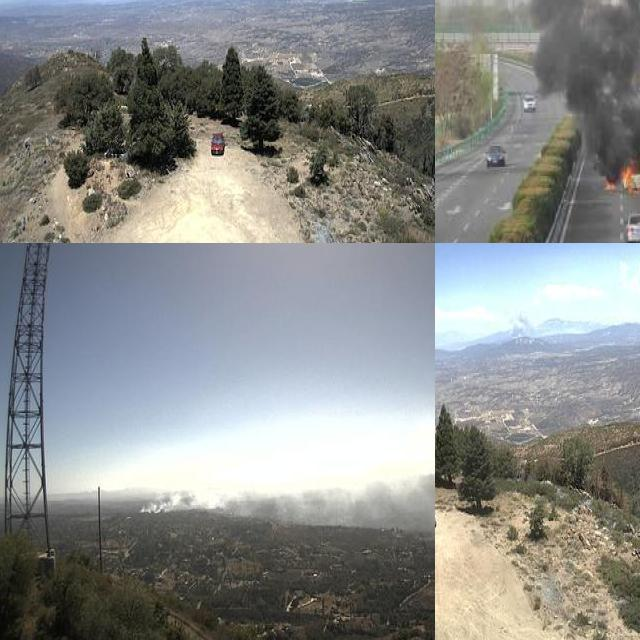fire: (605, 137, 640, 194)
smoke: (135, 421, 435, 543), (509, 0, 640, 164), (504, 311, 539, 338)
